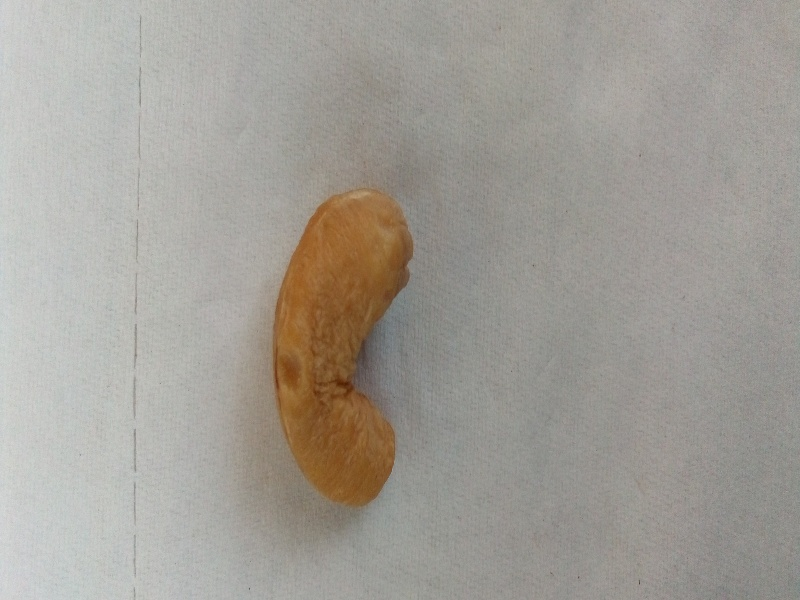cashew: (258, 164, 446, 526)
